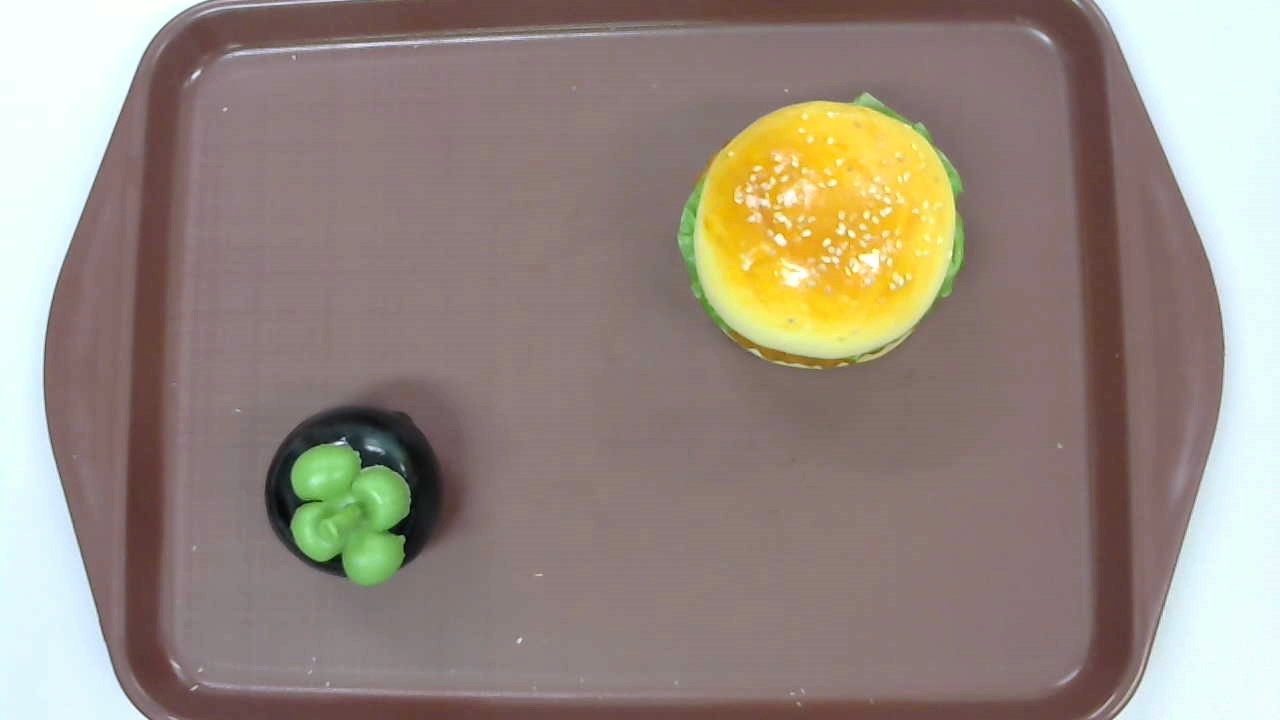hamburger: (677, 91, 966, 372)
mangosteen: (264, 403, 441, 586)
